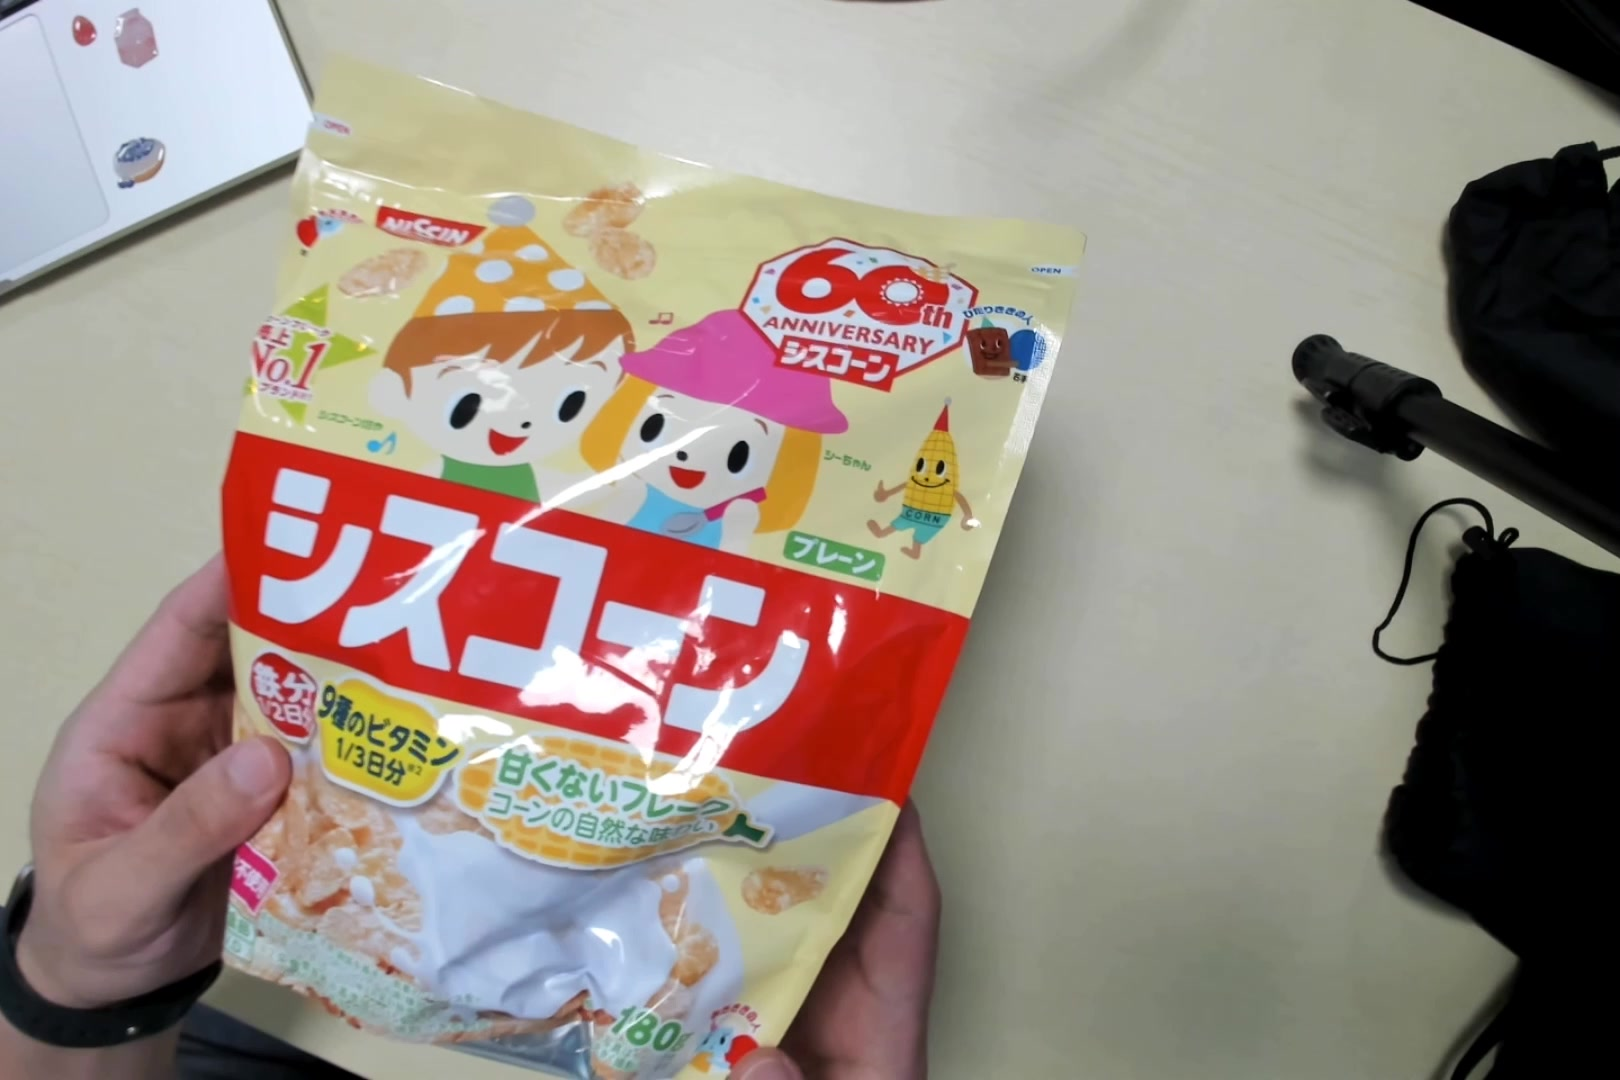BreakfastCereals_100-199g_NonHalal_NonHealthy: (228, 90, 1012, 1080)
